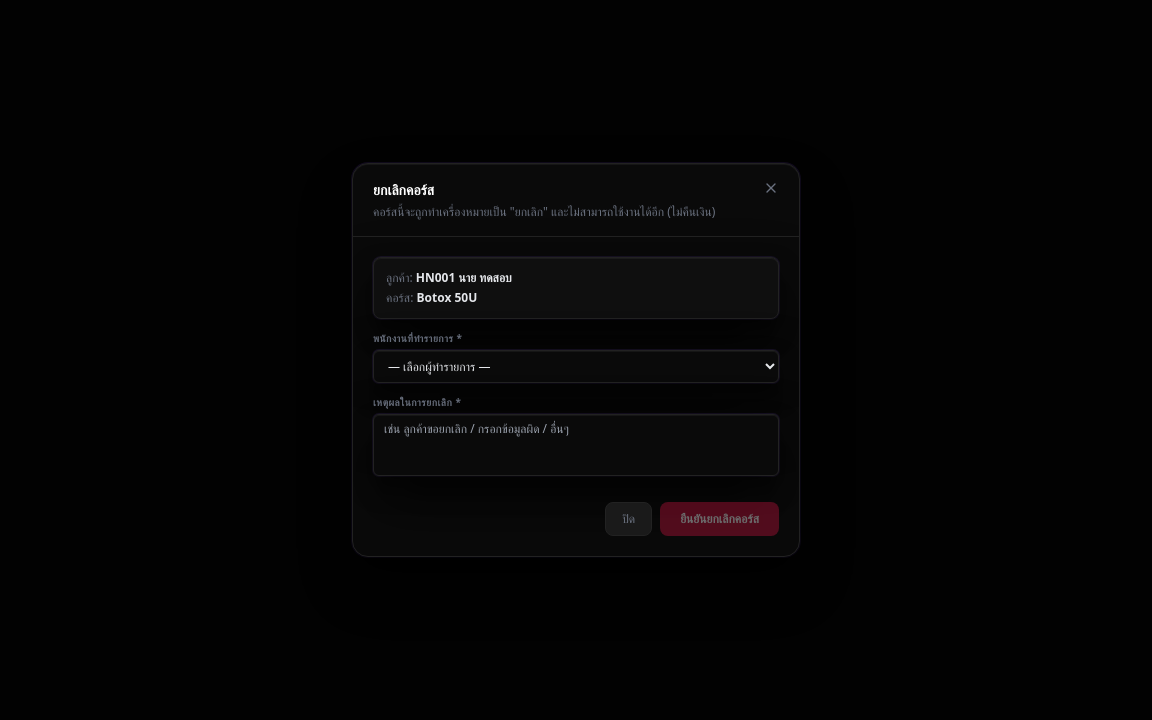
Scenario: M1 CancelCourseModal › M1.2 Phase 16.5-ter — submit disabled until staff picked AND reason filled
Expected: the button with test id "cancel-course-submit" is disabled, [660, 502, 779, 536]
Step 1. Type "admin error" into the text box with test id "cancel-course-reason" → (576, 445), box [373, 414, 779, 476]
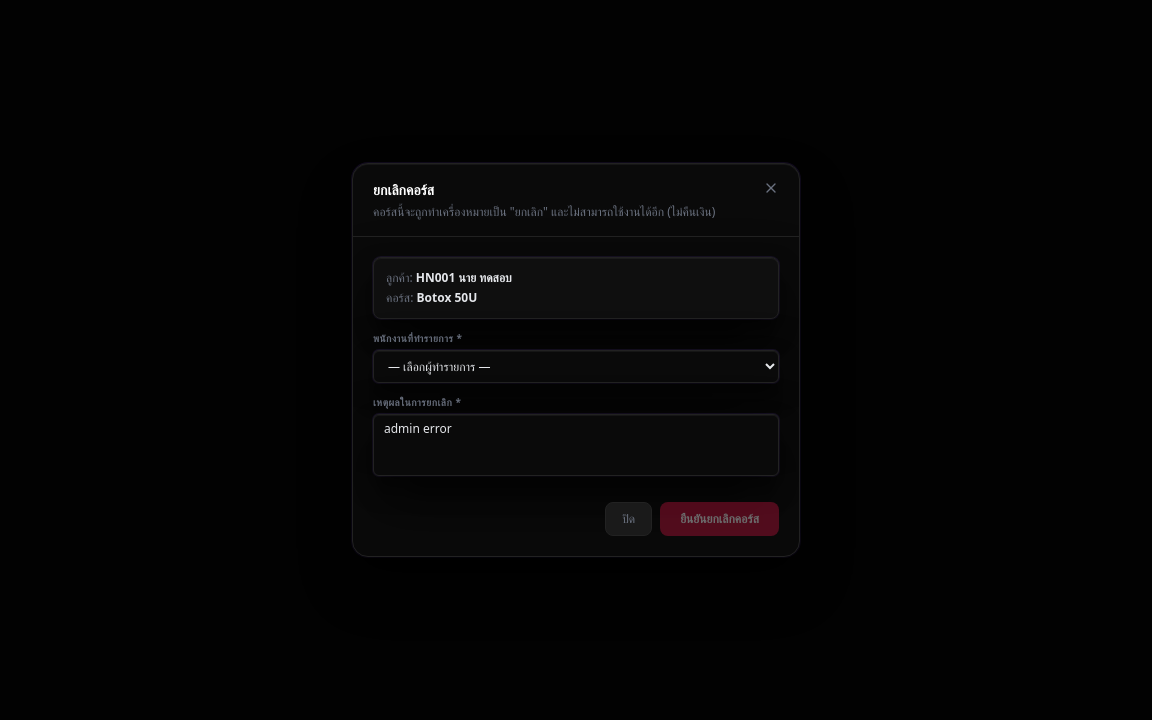
Expected: the button with test id "cancel-course-submit" is disabled, [660, 502, 779, 536]
Step 2. Select "นาง สมหญิง ใจดี" in the dropdown with test id "cancel-course-staff" → (576, 366), box [373, 350, 779, 383]
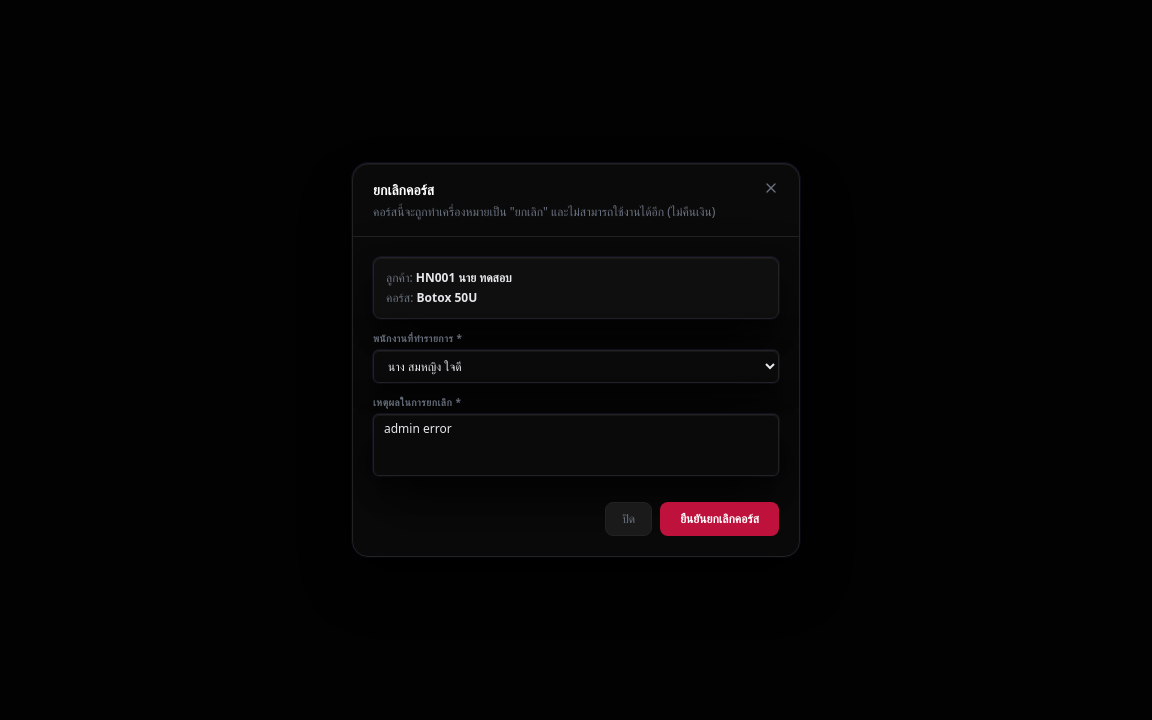
Expected: the button with test id "cancel-course-submit" is enabled, [660, 502, 779, 536]
